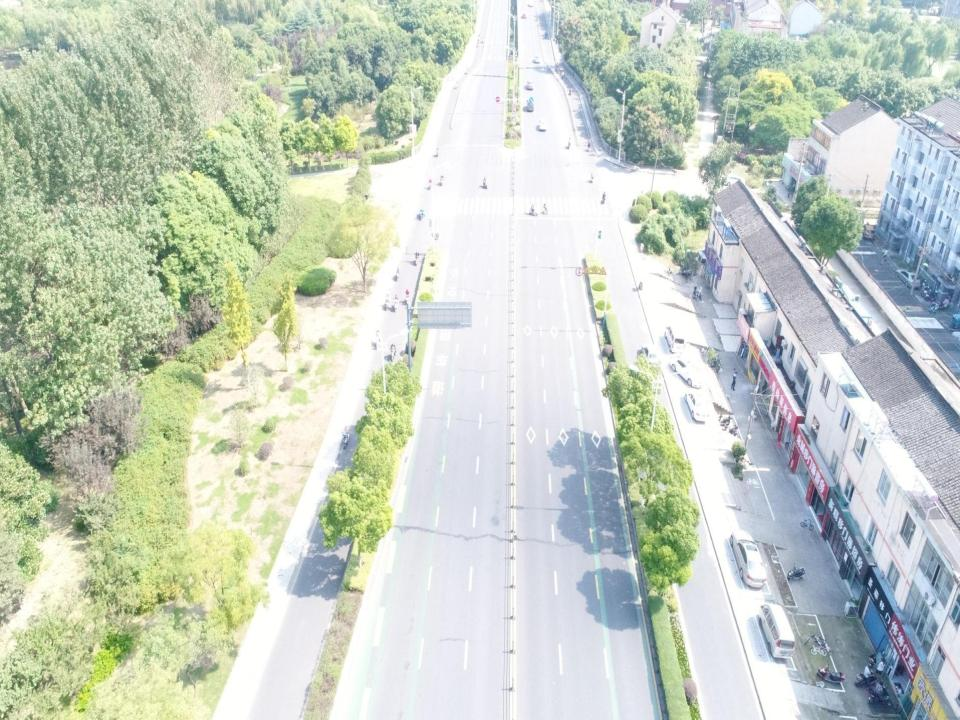car: (730, 528, 768, 590), (668, 354, 703, 389), (683, 391, 708, 425), (641, 342, 661, 373), (538, 118, 547, 130), (526, 80, 534, 91), (527, 100, 534, 112), (533, 55, 541, 62)
van: (756, 601, 794, 660), (663, 324, 686, 354)
